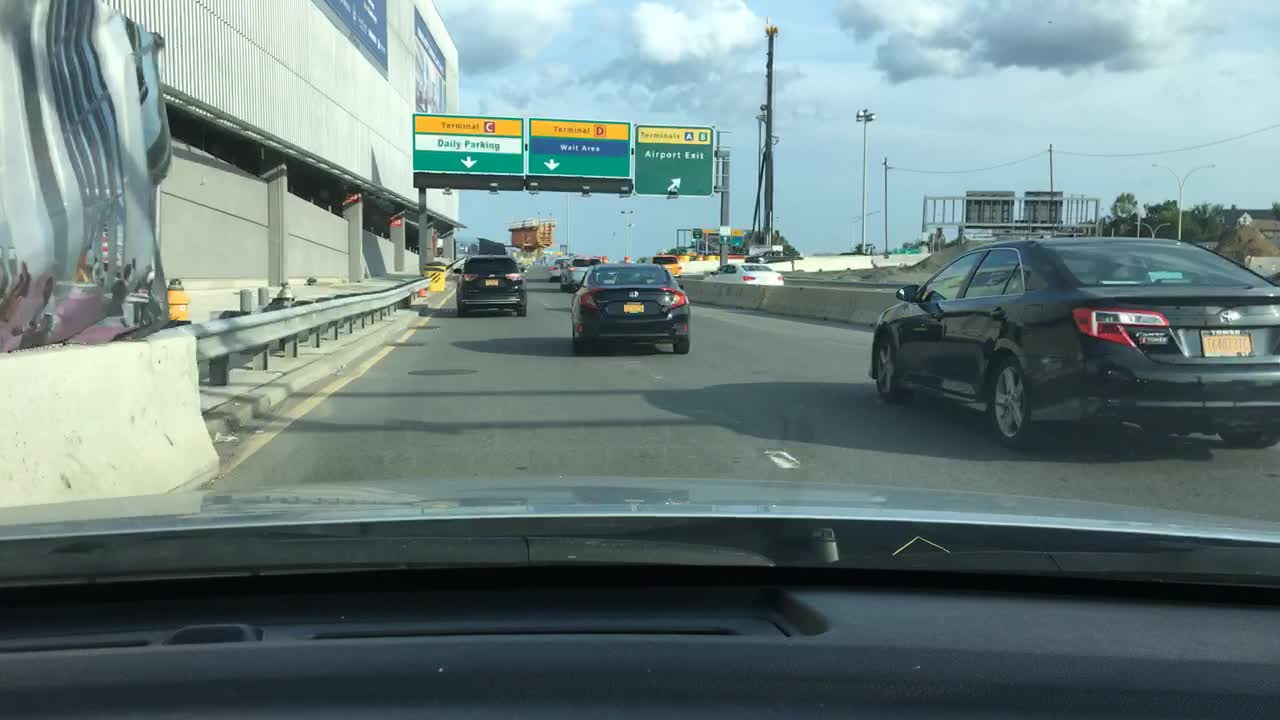car: (869, 235, 1278, 450), (572, 263, 692, 355), (457, 254, 530, 314), (704, 263, 783, 289), (566, 254, 599, 289), (650, 253, 680, 278), (550, 253, 568, 281)
traffic sign: (414, 113, 521, 181), (526, 115, 632, 182), (635, 124, 713, 196), (962, 189, 1015, 226), (1022, 191, 1063, 226), (1235, 211, 1253, 228), (891, 246, 920, 254), (717, 226, 730, 243), (732, 228, 742, 248), (691, 230, 703, 241)
